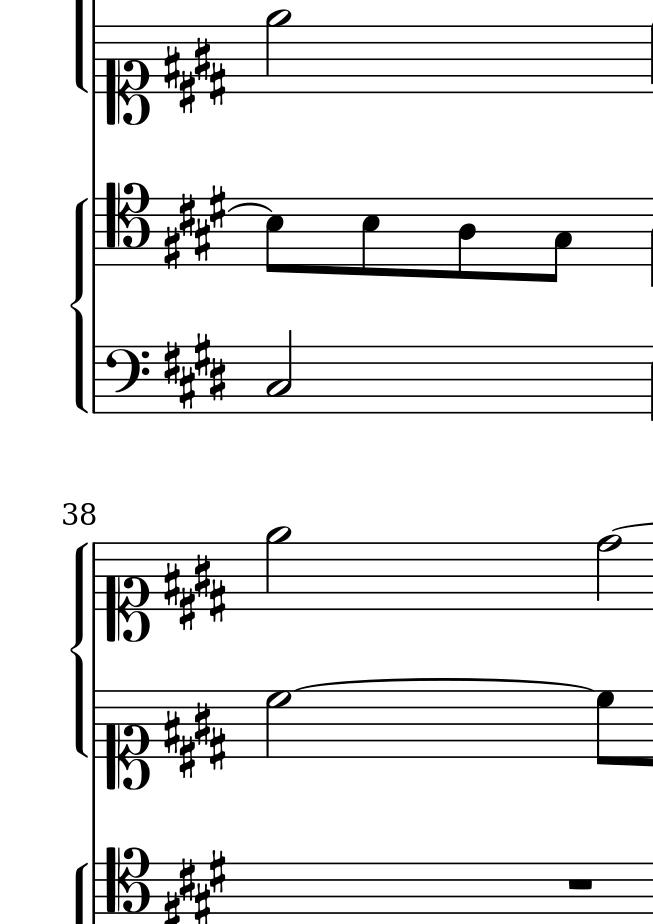2_3: (266, 325, 297, 415)
2_7: (261, 687, 293, 759)
2_8: (594, 534, 624, 610)
2_9: (264, 522, 295, 620), (265, 9, 291, 94)
3: (79, 499, 96, 529), (62, 501, 78, 529)
8_3: (545, 195, 574, 284)
8_4: (456, 196, 478, 284)
8_5: (360, 195, 382, 278), (265, 194, 285, 277)
8_7: (593, 689, 619, 767)
Brace: (69, 543, 91, 761), (70, 198, 91, 416)
E_S: (162, 551, 228, 631), (162, 331, 226, 413), (164, 847, 232, 924), (163, 185, 225, 268), (162, 37, 228, 114), (163, 700, 226, 779)
Fclef: (106, 343, 148, 415)
Rests1: (563, 876, 601, 893)
Slur: (293, 677, 592, 692), (227, 202, 274, 215)
Soprano_Cclef: (103, 23, 150, 128), (103, 688, 151, 790), (105, 538, 150, 644)
Tensor_Cclef: (104, 179, 150, 269), (100, 845, 149, 924)
